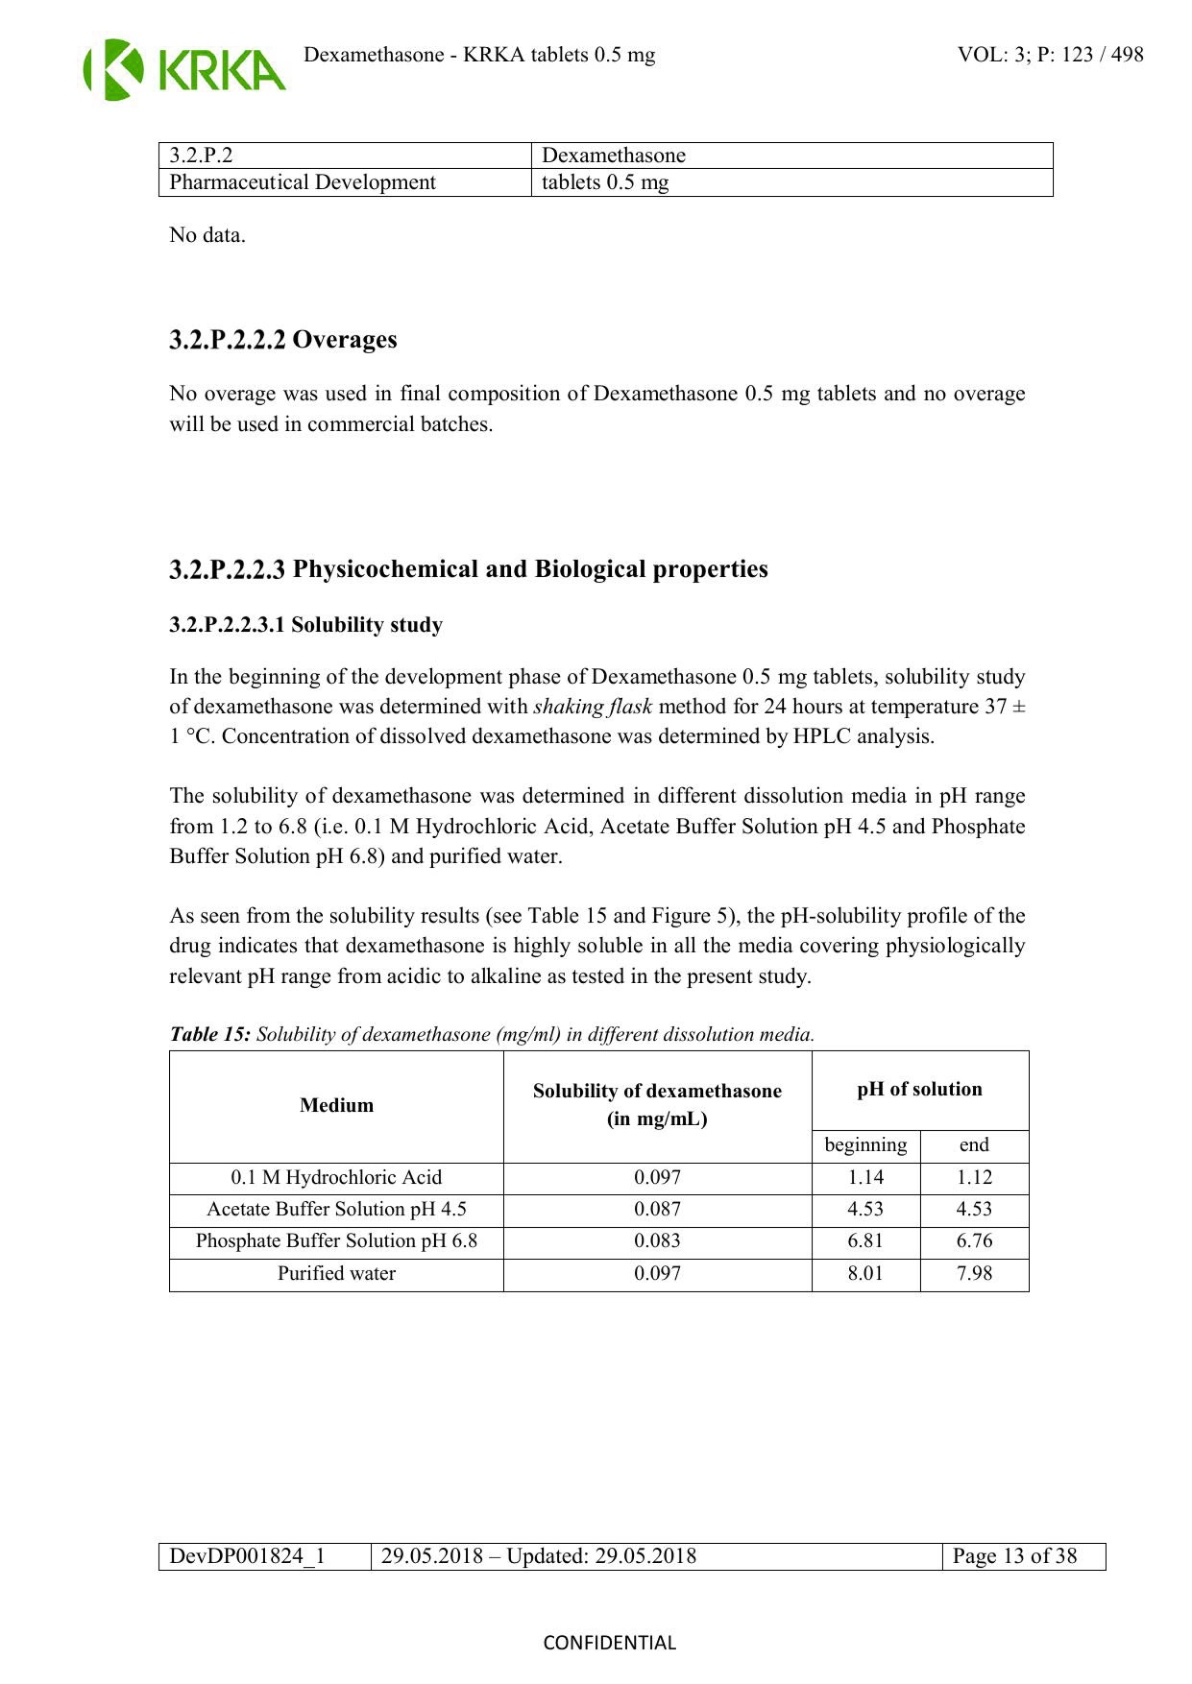full_lined: (157, 141, 1054, 199), (157, 1542, 1106, 1571)
merged_cells: (168, 1048, 1029, 1292)
